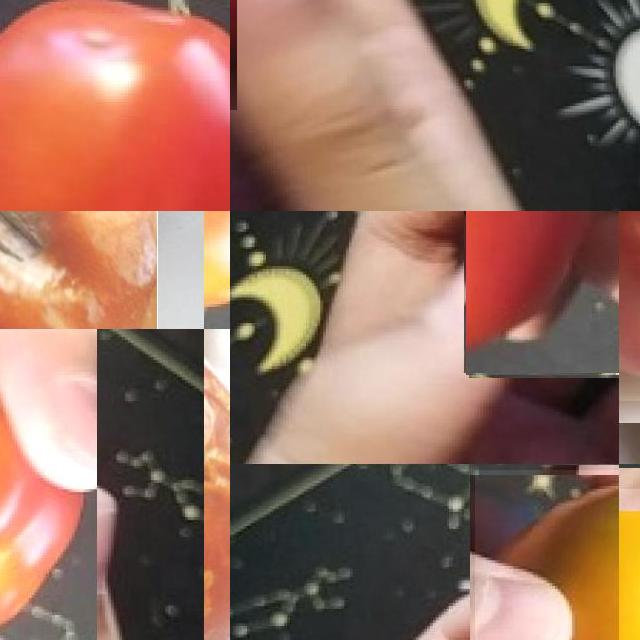0: (0, 329, 96, 640)
1: (204, 329, 230, 640)
Fresh Tomato: (0, 0, 230, 211), (466, 211, 619, 375)
Rotten Tomato: (474, 469, 619, 640)
